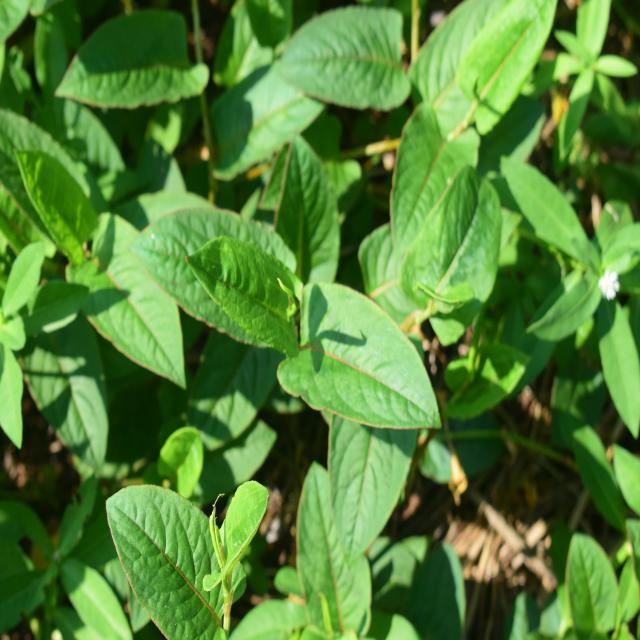Chinese_knotweed: (140, 164, 438, 510), (95, 474, 302, 619)
